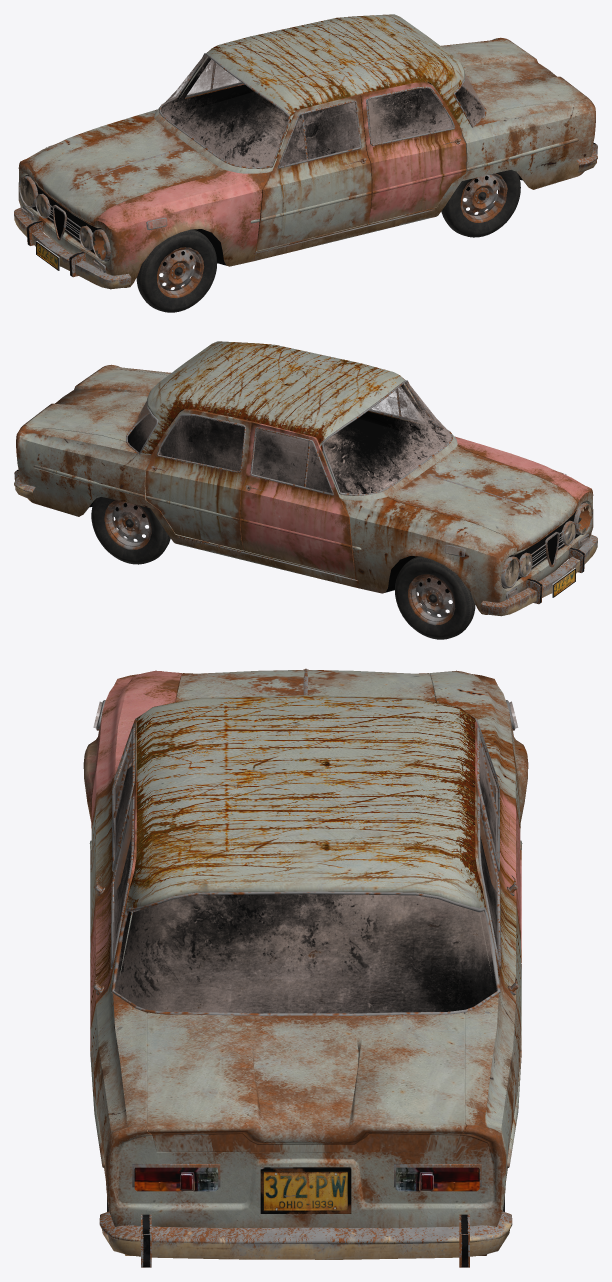
The model's file is alfa-romeo-rusted-old.glb.
3 renders of one model, top to bottom at view 1: azimuth 30°, elevation 25°; view 2: azimuth 150°, elevation 25°; view 3: azimuth 270°, elevation 25°, orthographic. The views are drawn at different scales.
Visible parts, largest first — view 1: alfabody, wheels; view 2: alfabody, wheels; view 3: alfabody.
Boxes of the visible parts, <box> form: alfabody: <box>14,14,597,289</box>; wheels: <box>136,170,520,312</box>; alfabody: <box>14,341,597,616</box>; wheels: <box>91,497,475,639</box>; alfabody: <box>83,668,528,1267</box>.
Size of the model in its own units: 752 by 251 by 284.
Materials: 4 (4 with a texture image).
